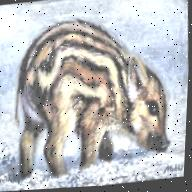boar: (2, 0, 177, 191)
